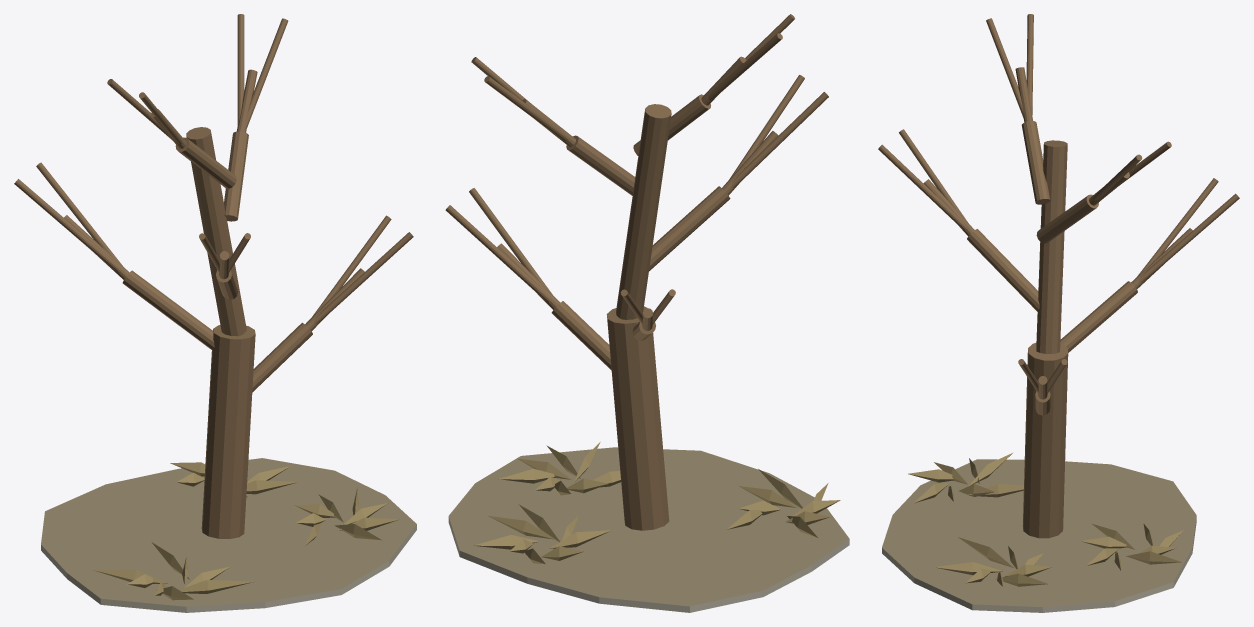
The model's file is Skeletal_Tree_Withered.glb.
3 views of the same model, side by side, from view 1: azimuth 30°, elevation 25°; view 2: azimuth 150°, elevation 25°; view 3: azimuth 270°, elevation 25° (orthographic). The views are drawn at different scales.
Visible parts, largest first — view 1: Support, Growth; view 2: Support, Growth; view 3: Support, Growth.
Part boxes in pixels (box(x1,y1,x2,y2)): Support: box(41, 458, 416, 612); Growth: box(14, 14, 413, 600); Support: box(448, 447, 849, 612); Growth: box(445, 14, 840, 564); Support: box(882, 459, 1196, 612); Growth: box(878, 14, 1239, 586).
Bounding box in the file's own units: 2.86 × 4.03 × 2.81.
